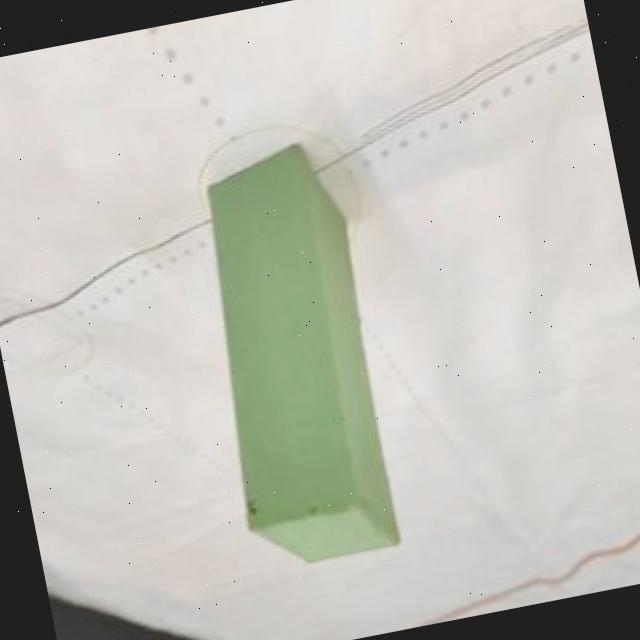greenbox: (178, 140, 410, 574)
